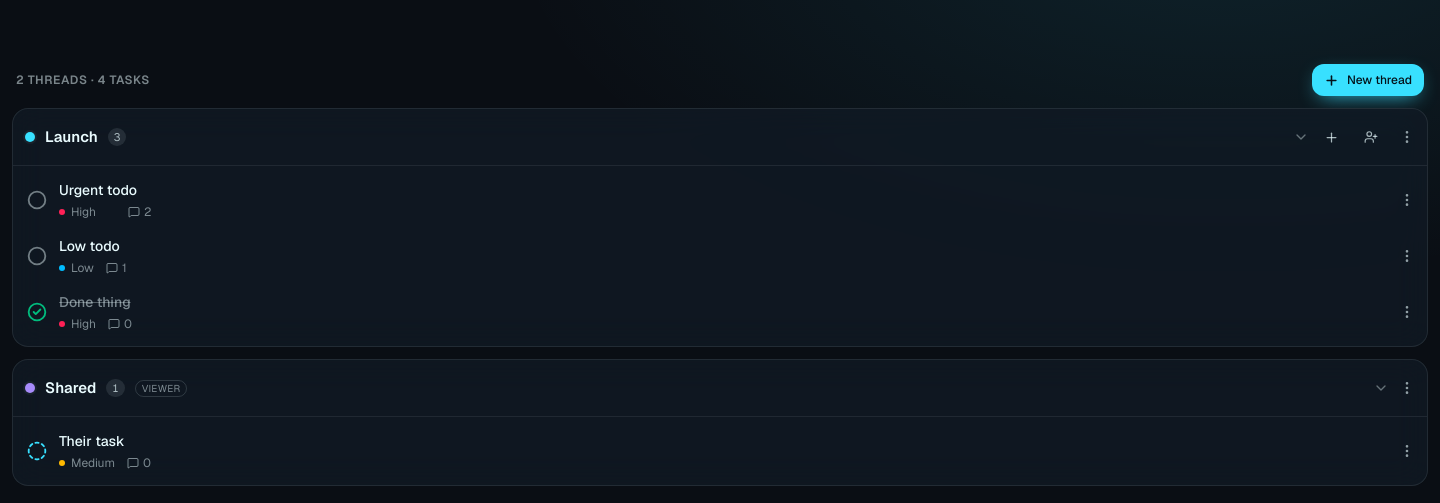
Scenario: TaskListView › collapses a thread's tasks from its header
What coordinates should you click on to do the following:
click the button "Launch 3"
I would click on:
 (71, 136)
Its box is [25,115,1309,159].
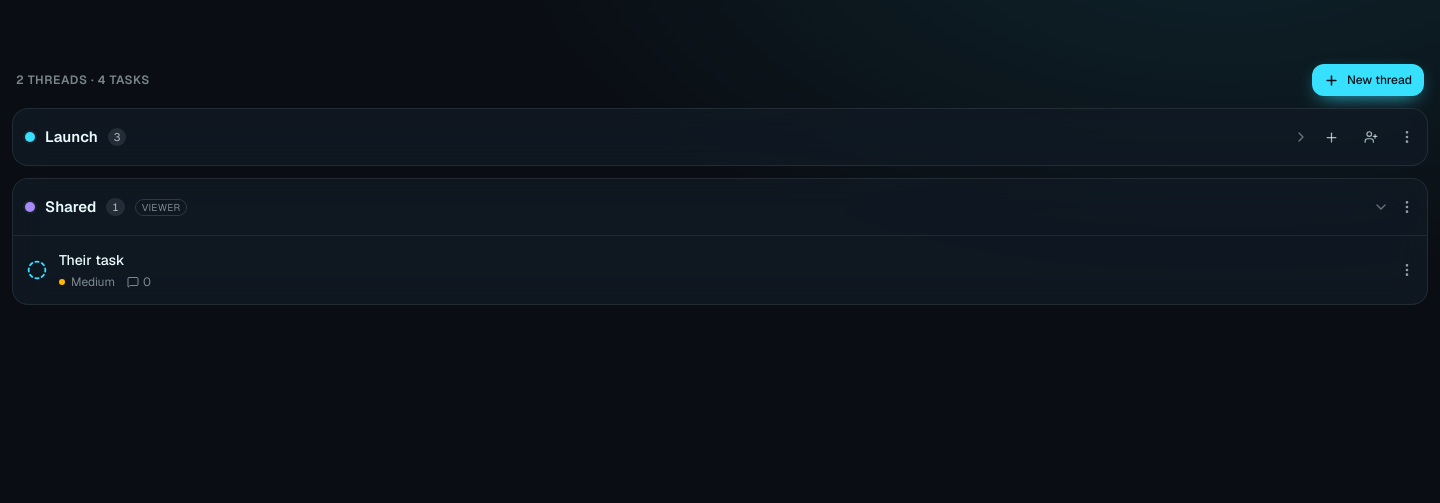
Result: the button "Urgent todo" is gone
